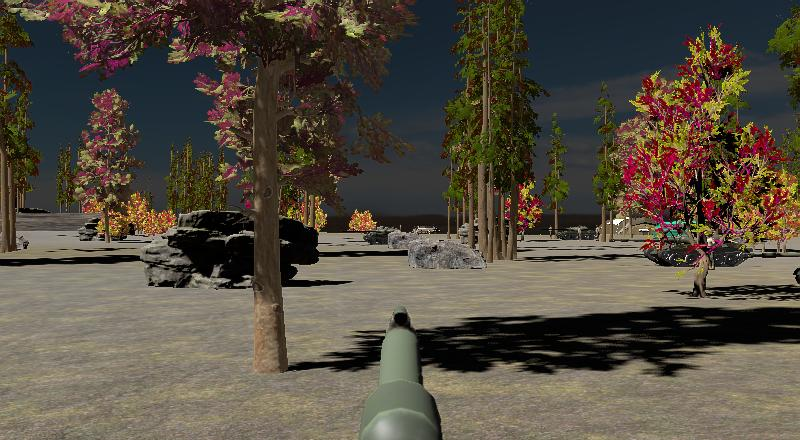Tank: (627, 229, 752, 270), (361, 224, 400, 246), (548, 224, 598, 241), (790, 248, 800, 294)
